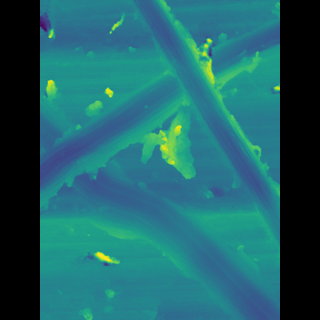Loch: (68, 93, 249, 320), (70, 16, 250, 212), (137, 0, 252, 250)
